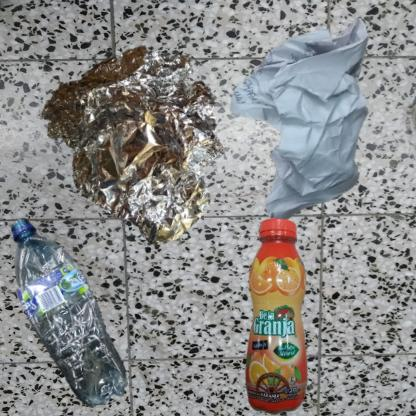aluminio: (10, 10, 281, 278)
botella: (213, 213, 367, 416), (10, 213, 132, 416)
papel: (213, 10, 416, 252)
